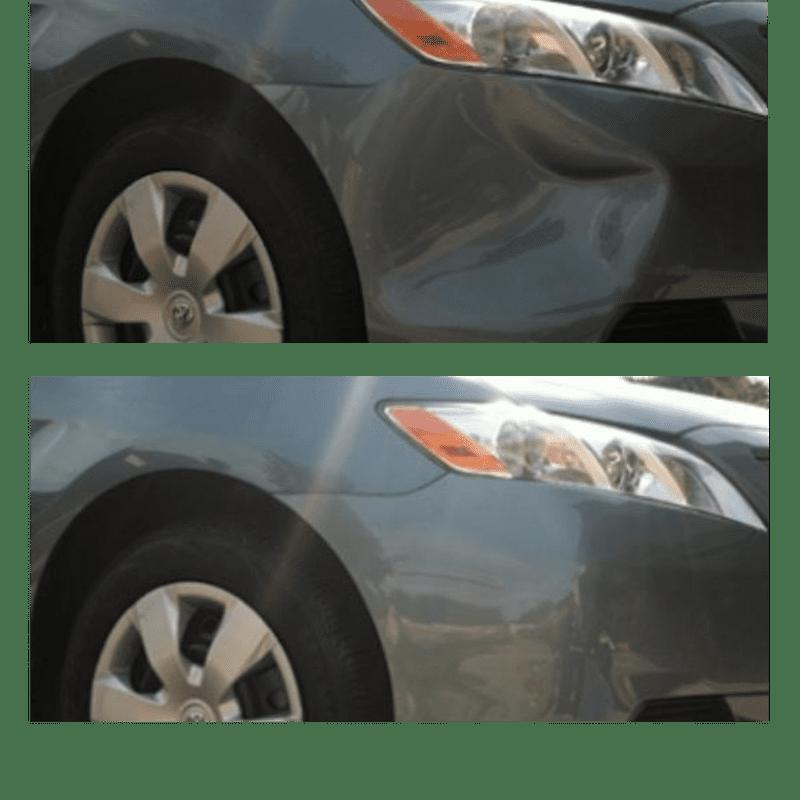front-bumper-dent: (319, 60, 796, 357)
